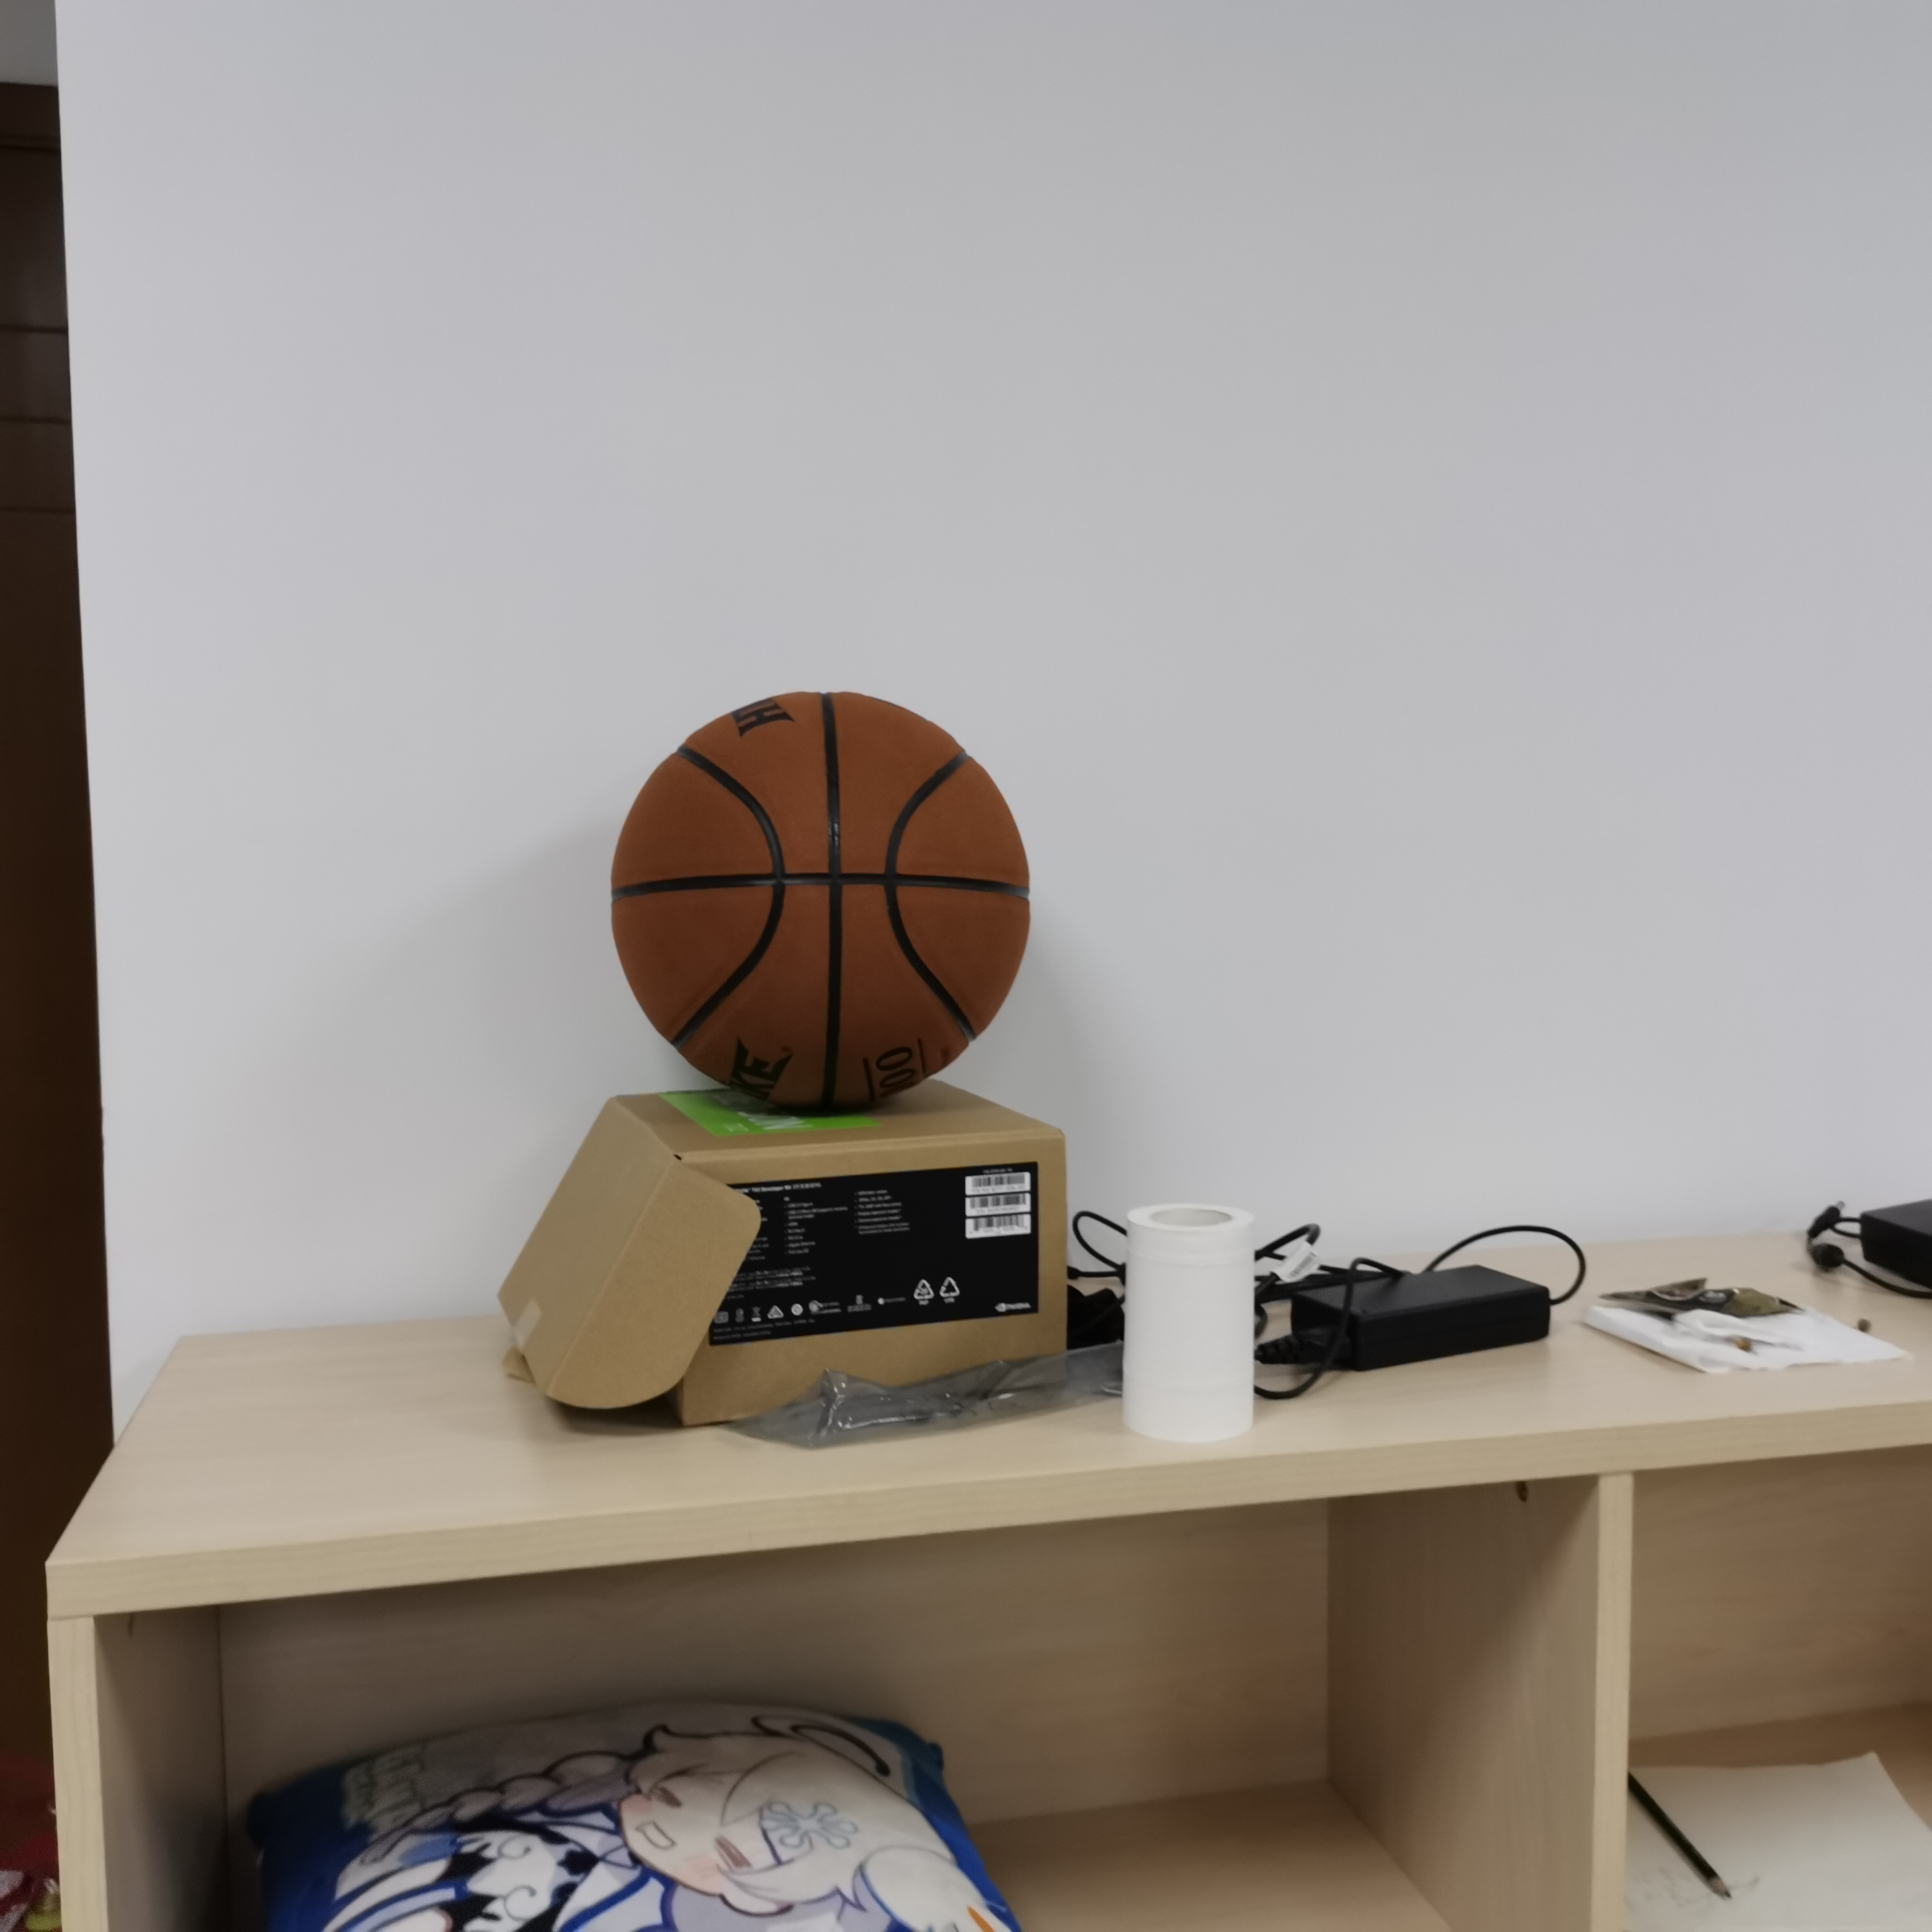basketball: (609, 694, 1035, 1104)
